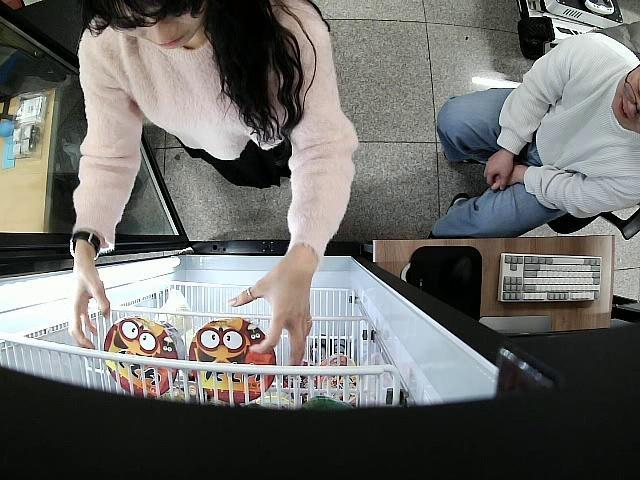05_nuguri_L: (188, 316, 277, 402), (103, 318, 184, 398)
